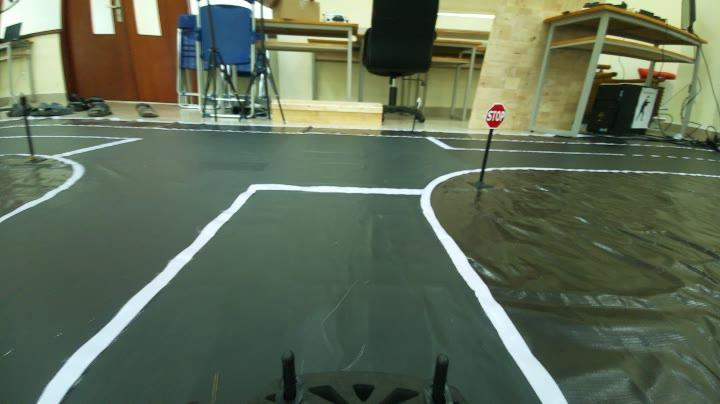stop: (479, 99, 512, 130)
